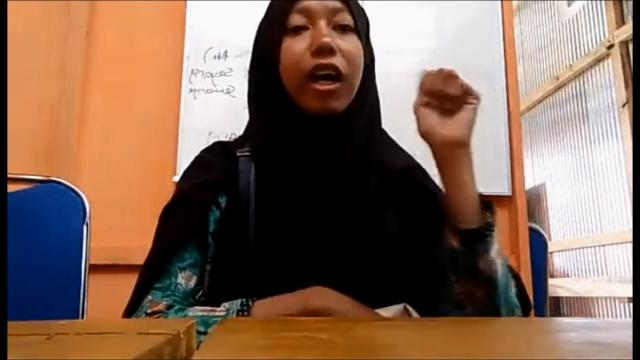A: (412, 65, 482, 157)
